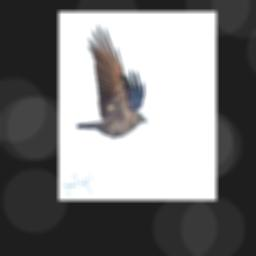Crow: (76, 25, 146, 137)
